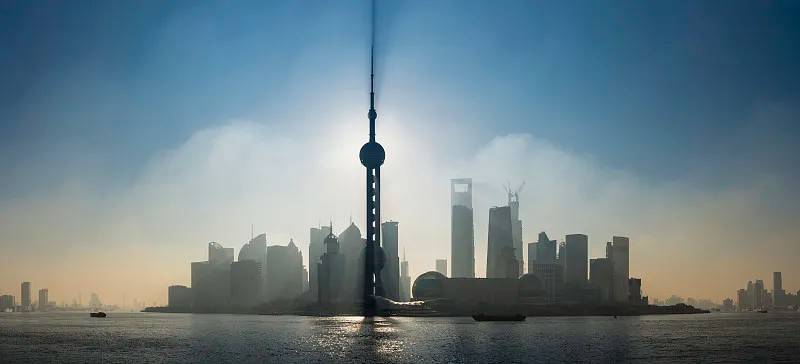Oriental: (360, 44, 386, 315)
